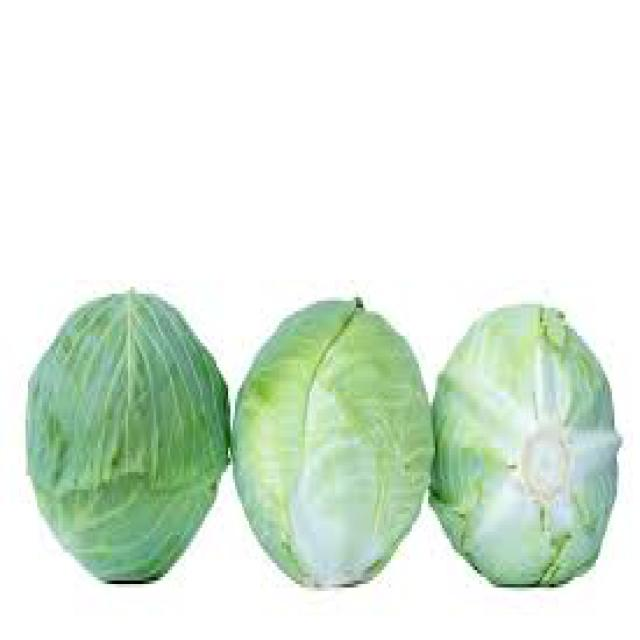Cabbage: (26, 289, 230, 584), (232, 298, 433, 588), (433, 306, 620, 586)
